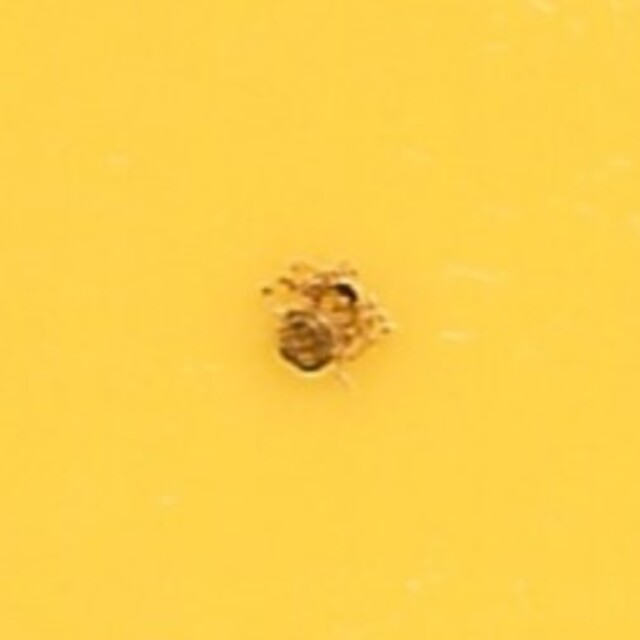Araneae: (254, 258, 386, 382)
